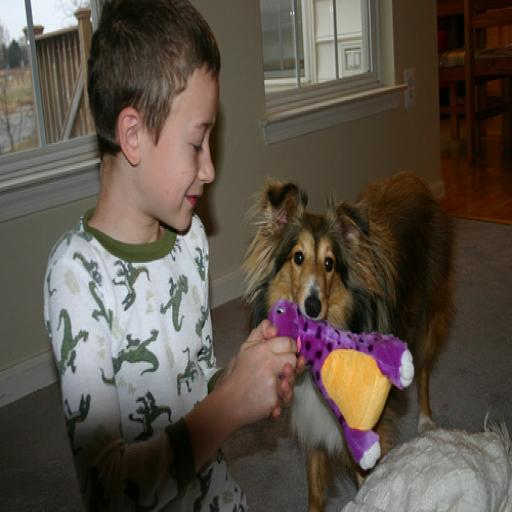dog_face: (266, 179, 375, 327)
